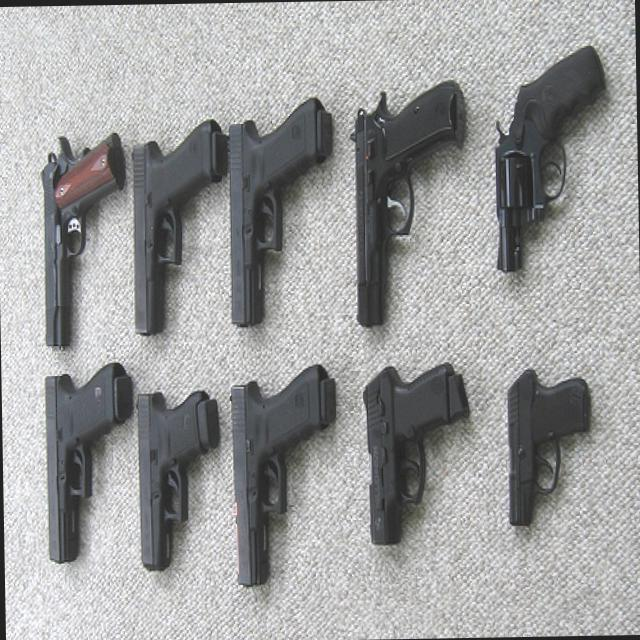handgun: (347, 80, 466, 332), (488, 46, 608, 276), (222, 98, 336, 330), (359, 360, 470, 552), (504, 366, 593, 533)
